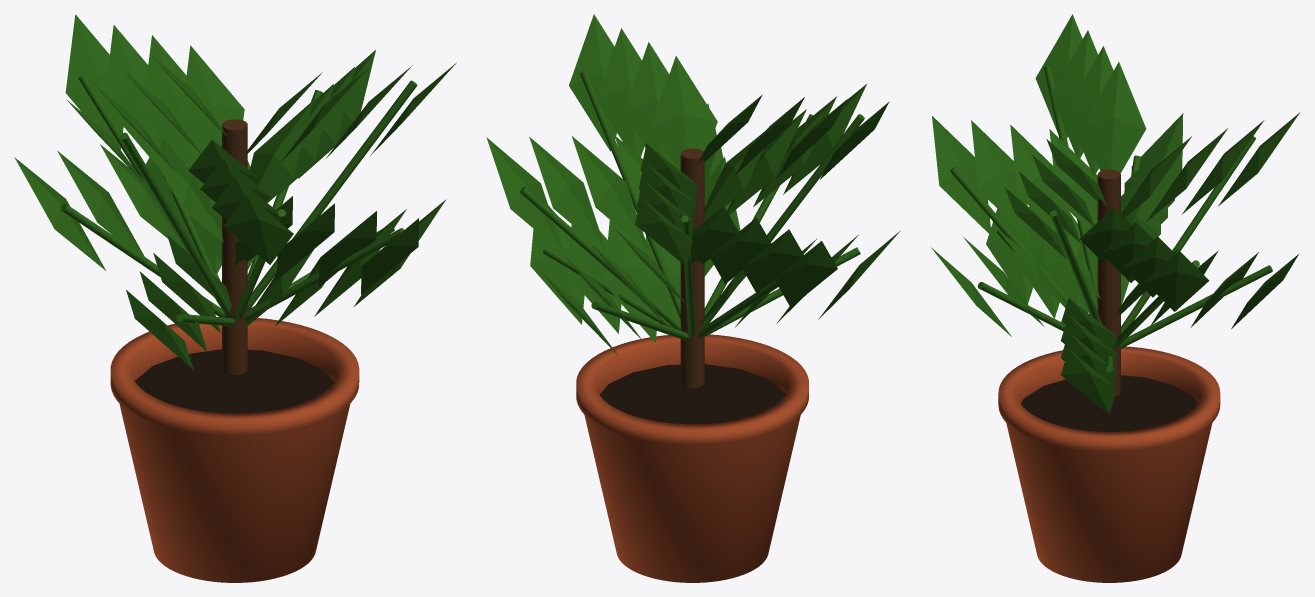
File: Monstera_cserepben.obj
3 views of the same model, side by side, from view 1: azimuth 30°, elevation 25°; view 2: azimuth 150°, elevation 25°; view 3: azimuth 270°, elevation 25° (orthographic). The views are drawn at different scales.
Size of the model in its own units: 0.8416 by 1.09 by 0.7996.
